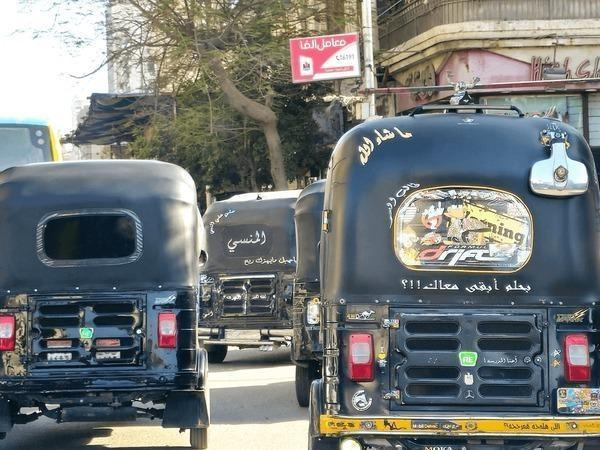keke: (286, 103, 597, 450), (0, 157, 203, 450)
